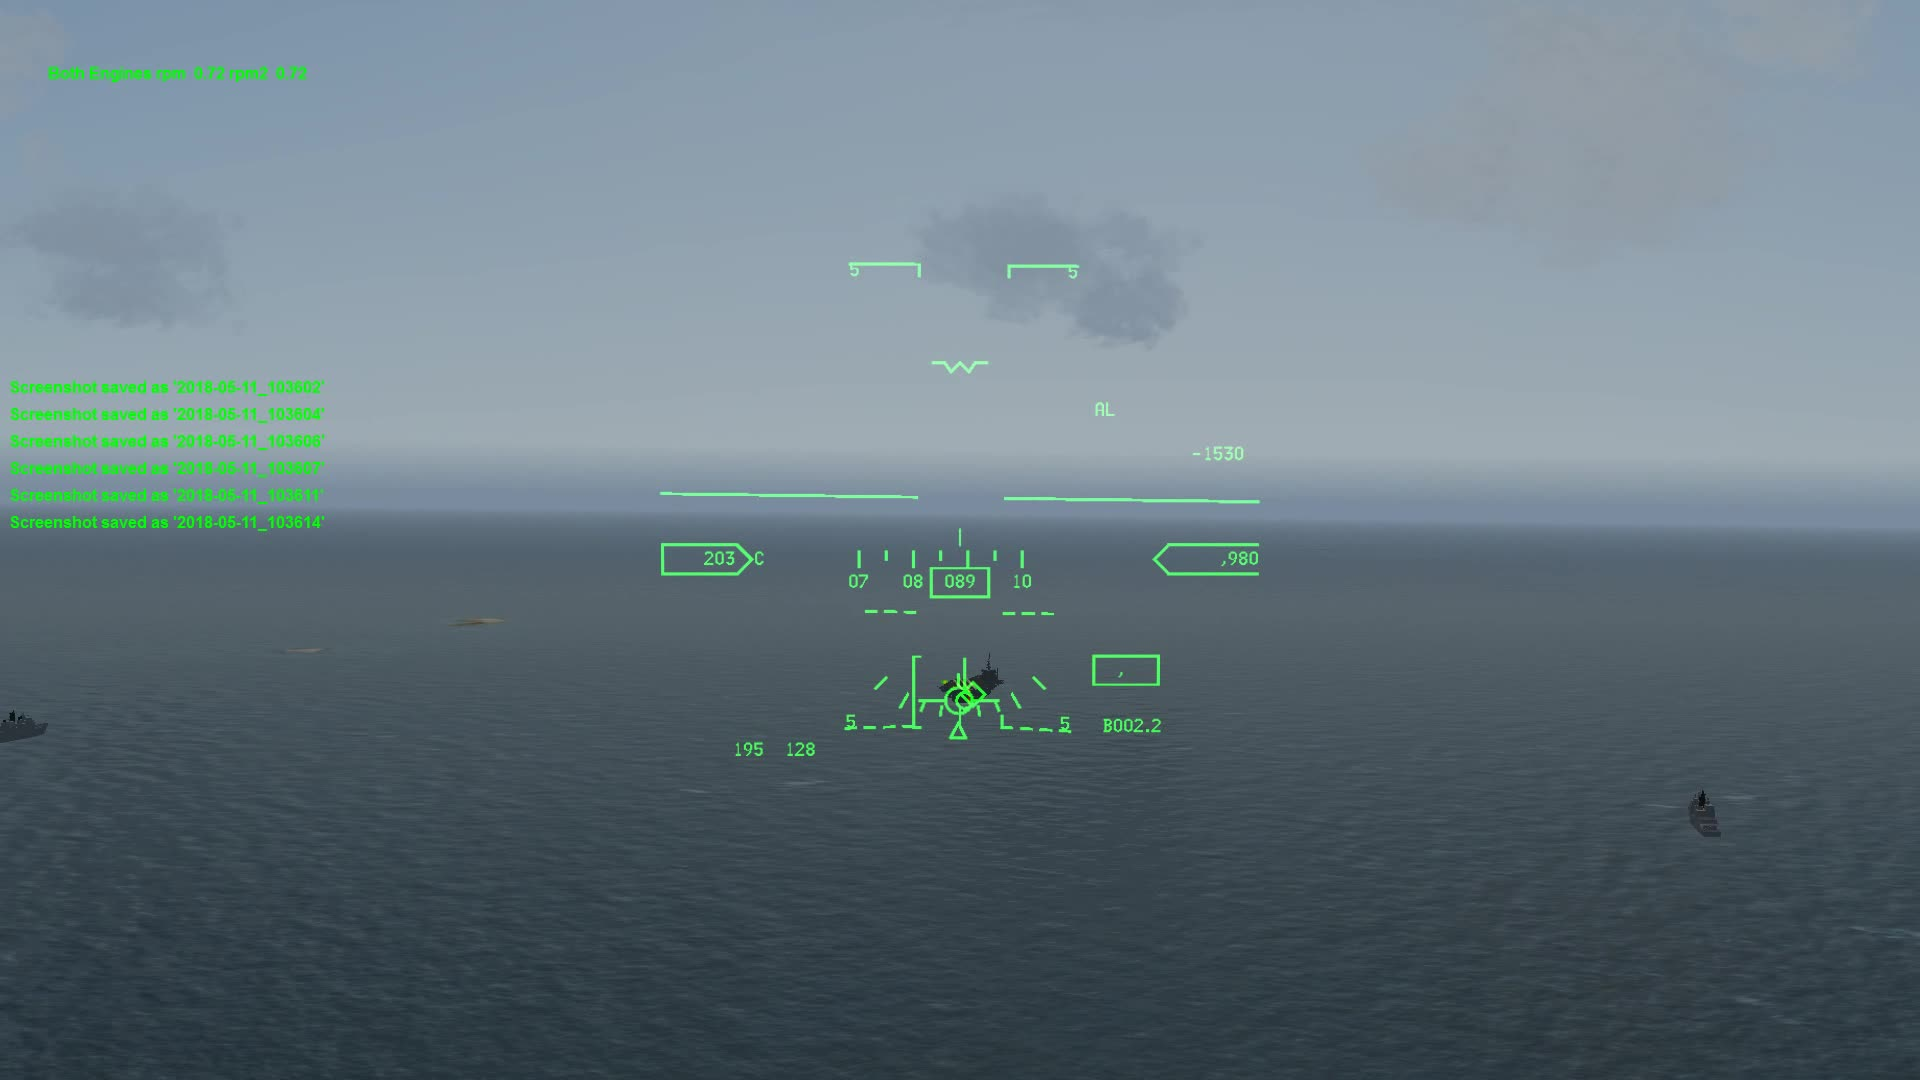speed vector: (916, 661, 1005, 713)
